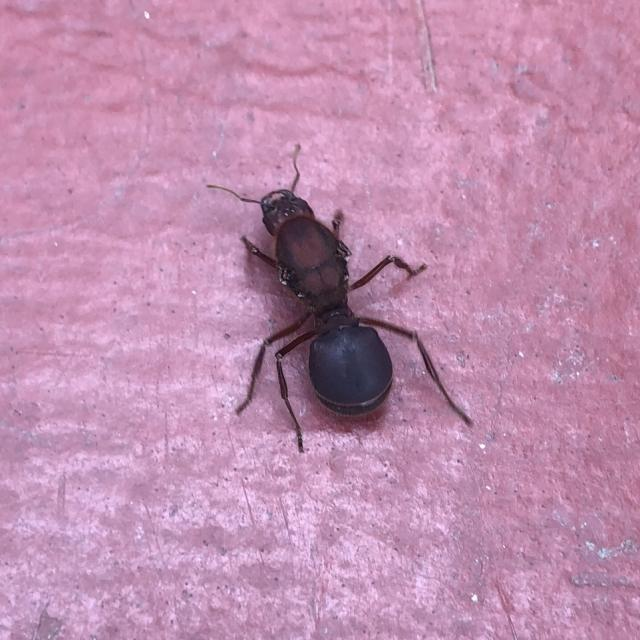Alive-Female-Dealate: (206, 142, 475, 454)
